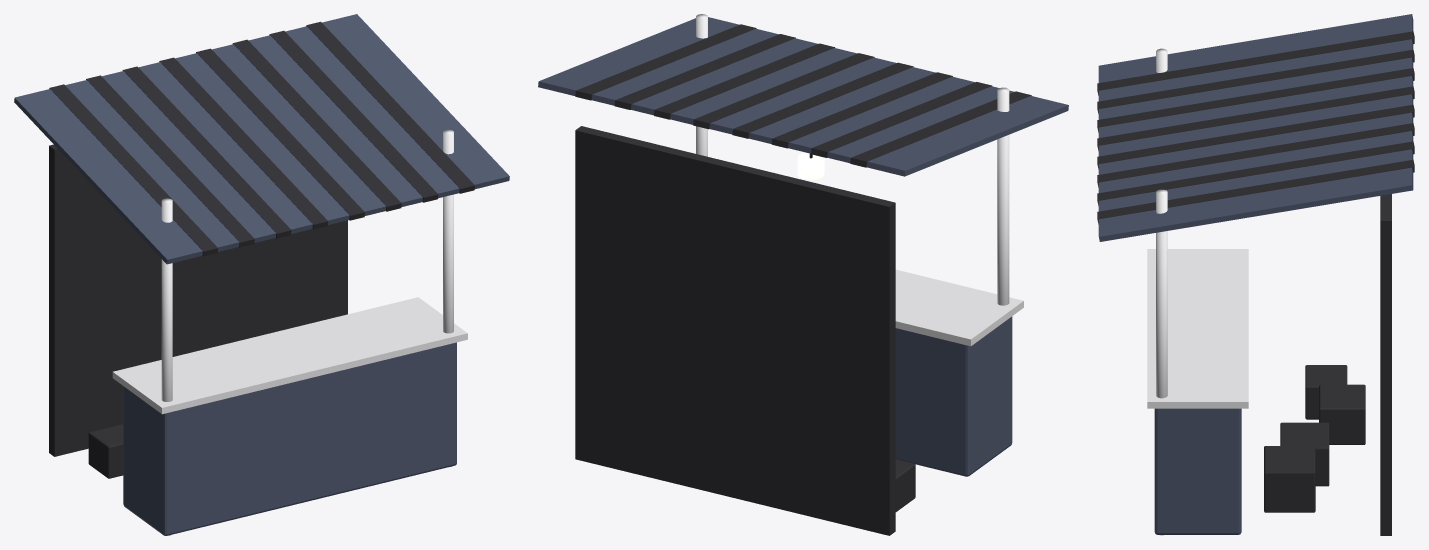
File: SM_Stall3.fbx
The picture shows the model from 3 angles, left to right: view 1: azimuth 30°, elevation 25°; view 2: azimuth 150°, elevation 25°; view 3: azimuth 270°, elevation 25°; orthographic projection. The views are drawn at different scales.
Visible parts, largest first — view 1: SM_Stall3; view 2: SM_Stall3; view 3: SM_Stall3.
Boxes of the visible parts, <box> form: SM_Stall3: <box>14,14,509,535</box>; SM_Stall3: <box>538,14,1068,535</box>; SM_Stall3: <box>1097,14,1414,535</box>.
Bounding box in the file's own units: 2.19 × 2.8 × 2.77.
